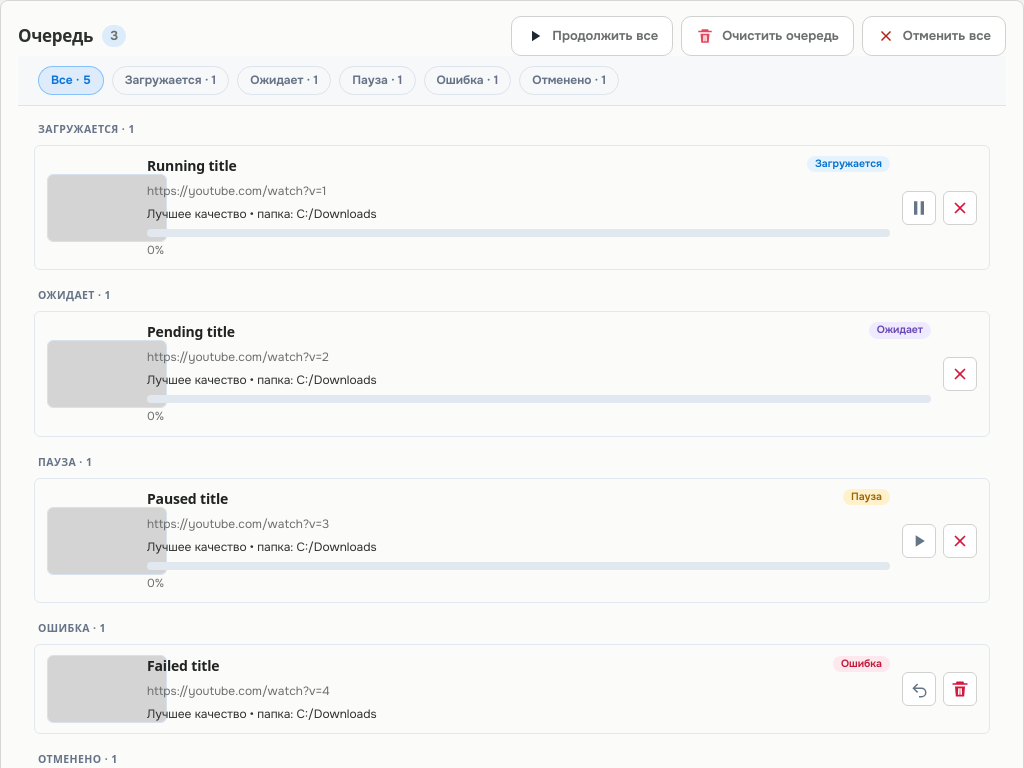
Test case: Queue status layout › groups visible jobs, exposes filters and omits completed rows
The width and height of the screenshot is (1024, 768).
Expected: the text named "Активных заданий: 3" reads "3", left=110, top=27, right=118, bottom=44
Expected: the heading "Загружается · 1" is shown, left=38, top=122, right=135, bottom=136
Click the button "Ошибка · 1" at [467, 80], box left=424, top=66, right=511, bottom=95
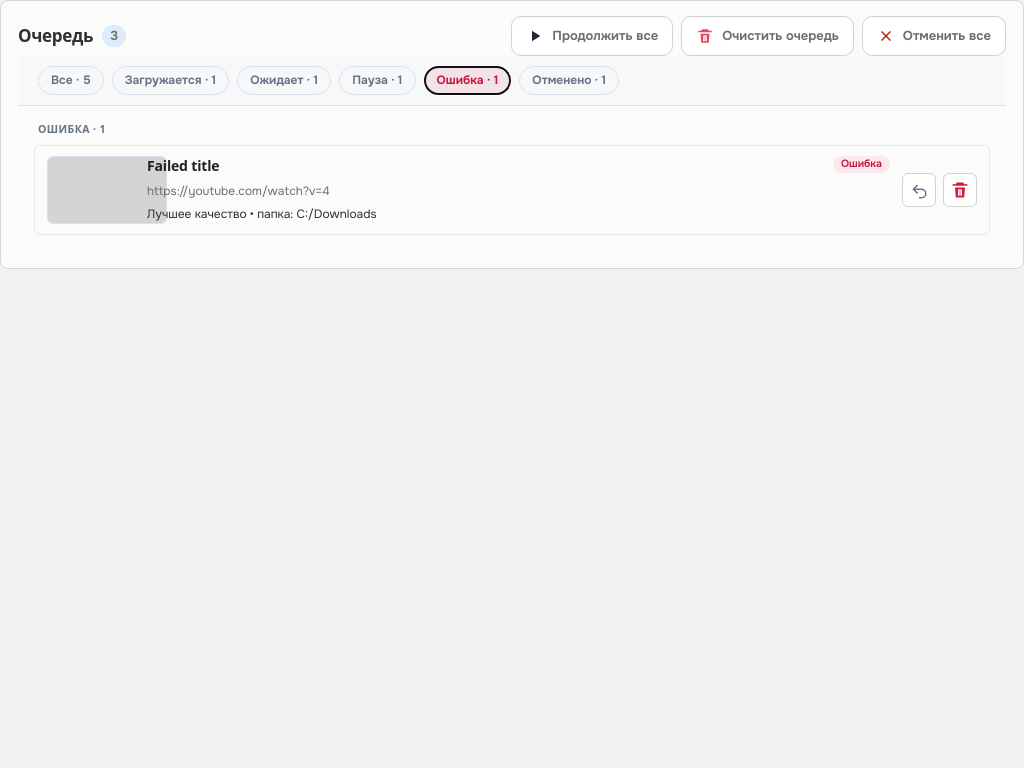
Expected: the text "Failed title" is shown, left=147, top=156, right=219, bottom=176
Now the number of list items is 1, box left=34, top=145, right=990, bottom=235
Now the text "Running title" is gone
